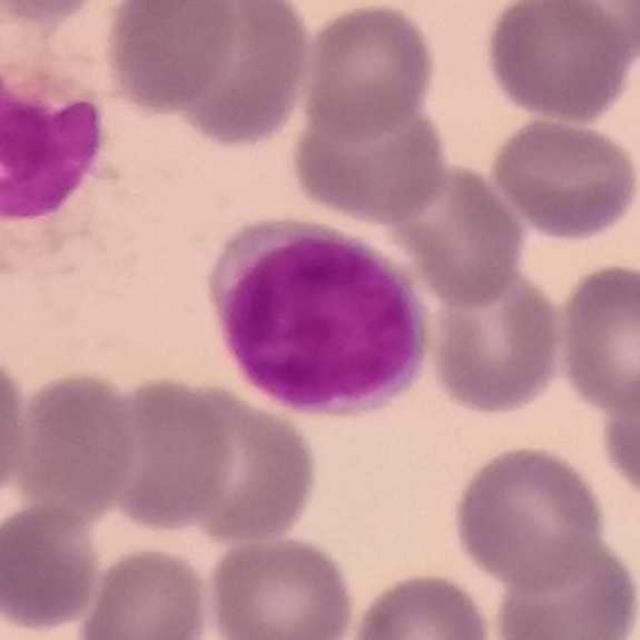Lymphocyte: (205, 215, 436, 422), (0, 38, 131, 260)
RBC: (143, 374, 324, 549), (83, 368, 240, 536), (449, 441, 610, 593), (157, 0, 315, 152), (378, 154, 530, 310), (423, 258, 568, 420), (285, 86, 452, 225), (296, 0, 439, 141), (487, 113, 640, 243), (479, 0, 636, 126), (11, 366, 143, 514), (202, 530, 360, 640), (98, 0, 243, 117), (488, 528, 637, 640), (0, 496, 106, 634), (71, 542, 216, 640), (552, 259, 640, 420), (347, 567, 495, 640), (531, 0, 639, 67), (595, 356, 640, 508), (0, 341, 33, 517), (0, 0, 116, 26)
